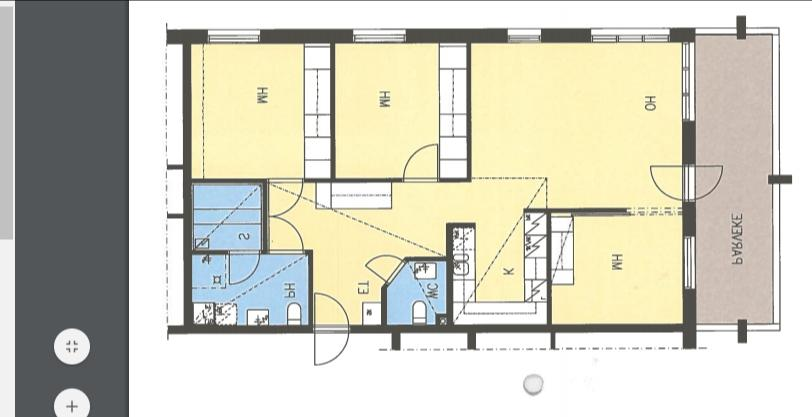bathroom: (189, 252, 310, 325), (384, 259, 446, 326)
door: (649, 159, 692, 203), (398, 142, 442, 184), (685, 161, 726, 206), (264, 175, 306, 217), (312, 290, 352, 334), (264, 216, 308, 256), (311, 326, 351, 367), (363, 253, 408, 286), (225, 246, 262, 286)
perimeter: (183, 25, 696, 332)
window: (589, 25, 671, 46), (678, 38, 696, 126), (350, 25, 410, 46), (204, 27, 264, 48), (681, 232, 698, 292), (504, 24, 546, 44)
